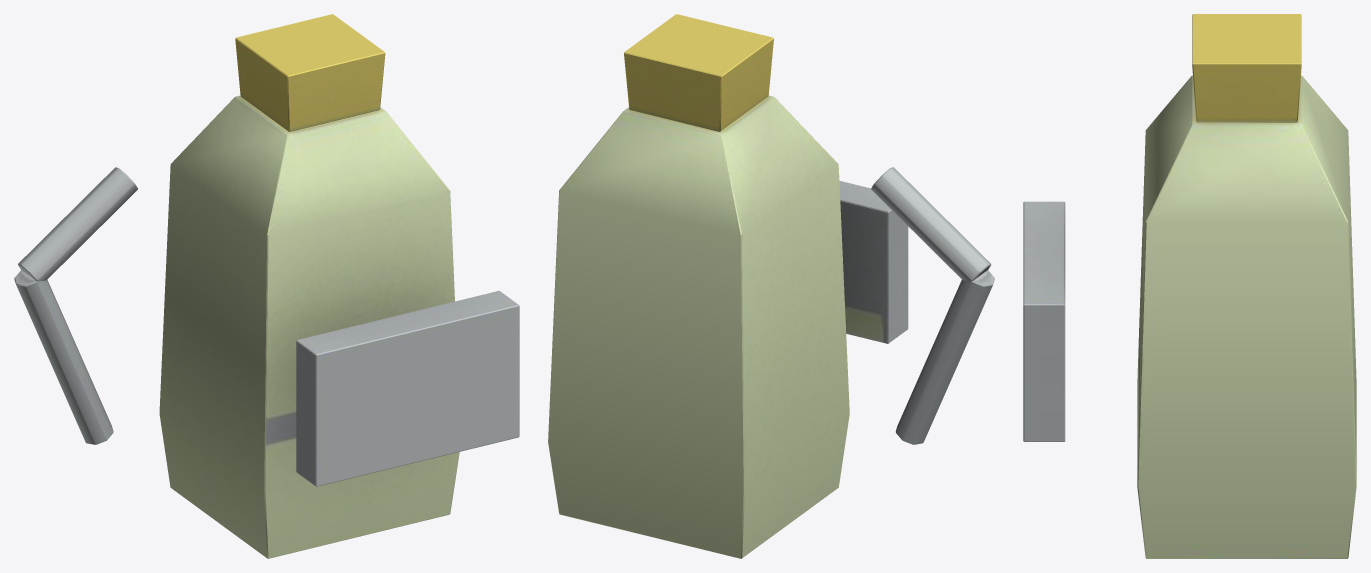
The model's file is IT_chlorine.glb.
The picture shows the model from 3 angles, left to right: view 1: azimuth 30°, elevation 25°; view 2: azimuth 150°, elevation 25°; view 3: azimuth 270°, elevation 25°; orthographic projection. The views are drawn at different scales.
Parts seen in each view (by area): view 1: IT_chlorine; view 2: IT_chlorine; view 3: IT_chlorine.
Boxes of the visible parts, bbox=[...] form: IT_chlorine: bbox=[14, 14, 519, 558]; IT_chlorine: bbox=[548, 14, 994, 558]; IT_chlorine: bbox=[1023, 14, 1356, 558].
Bounding box in the file's own units: 0.5626 × 0.62 × 0.395.
Materials: 1 (1 with a texture image).
